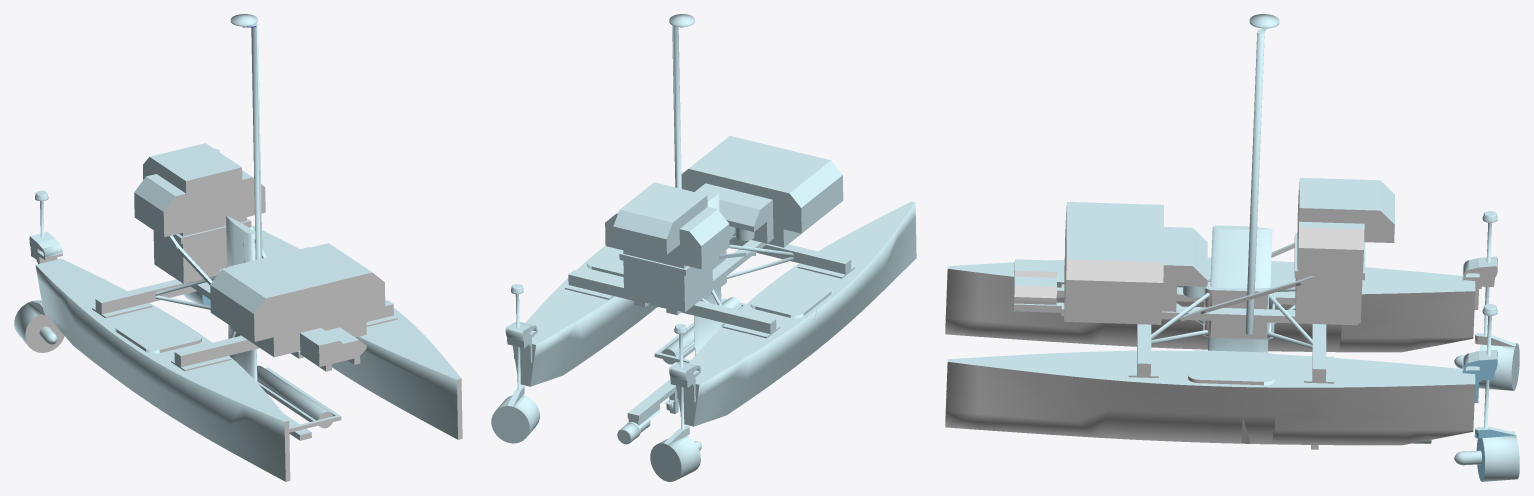
Rendered from delfim.dae.
The picture shows the model from 3 angles, left to right: view 1: azimuth 30°, elevation 25°; view 2: azimuth 150°, elevation 25°; view 3: azimuth 270°, elevation 25°; orthographic projection. The views are drawn at different scales.
Parts seen in each view (by area): view 1: _ncl1_2; view 2: _ncl1_2; view 3: _ncl1_2.
Part boxes in pixels (<box>): _ncl1_2: <box>14,14,462,481</box>; _ncl1_2: <box>491,14,916,481</box>; _ncl1_2: <box>945,14,1519,481</box>.
Size of the model in its own units: 2 by 3.8 by 3.2.
